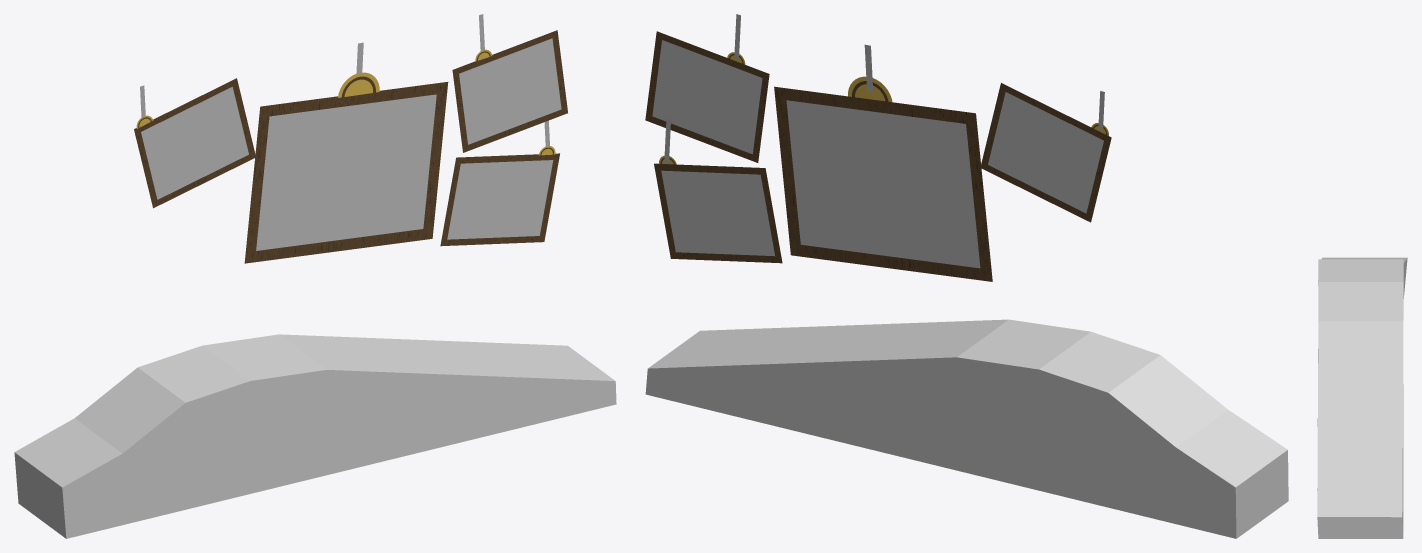
The model's file is level1.fbx.
3 renders of one model, left to right at view 1: azimuth 30°, elevation 25°; view 2: azimuth 150°, elevation 25°; view 3: azimuth 270°, elevation 25°, orthographic. The views are drawn at different scales.
Parts seen in each view (by area): view 1: StartRamp, Sign1, Sign1.001, Sign1.002, Sign1.003, GoldFixture; view 2: StartRamp, Sign1, Sign1.002, Sign1.003, Sign1.001; view 3: StartRamp.
Part boxes in pixels (x1,y1,x2,y2): StartRamp: (14,334,616,538); Sign1: (244,82,448,263); Sign1.001: (452,30,567,152); Sign1.002: (440,153,559,246); Sign1.003: (134,78,255,208); GoldFixture: (338,72,379,97); StartRamp: (645,319,1288,538); Sign1: (774,86,992,281); Sign1.002: (654,163,782,263); Sign1.003: (981,83,1111,222); Sign1.001: (645,31,769,162); StartRamp: (1317,257,1407,538).
Bounding box in the file's own units: 2626 × 1759 × 422.
